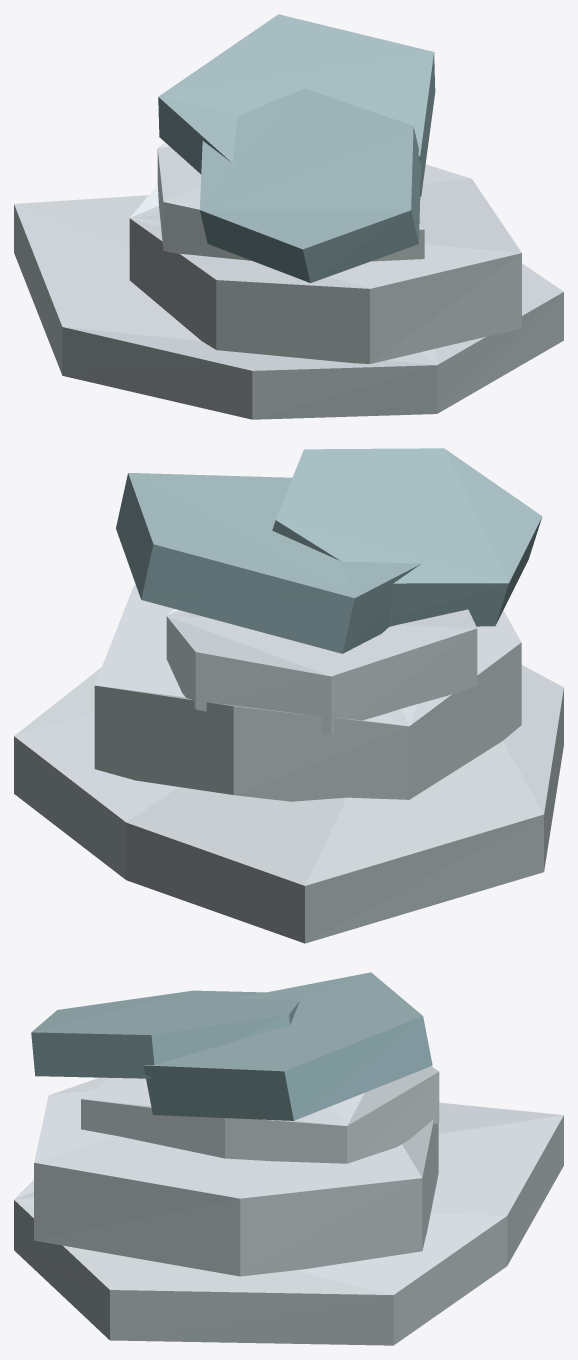
The model's file is rock.floe__buried__autumn.glb.
3 renders of one model, top to bottom at view 1: azimuth 30°, elevation 25°; view 2: azimuth 150°, elevation 25°; view 3: azimuth 270°, elevation 25°, orthographic. The views are drawn at different scales.
Parts seen in each view (by area): view 1: rock.floe; view 2: rock.floe; view 3: rock.floe.
Part boxes in pixels (bbox=[...]): rock.floe: bbox=[14, 14, 563, 419]; rock.floe: bbox=[14, 448, 563, 943]; rock.floe: bbox=[14, 972, 563, 1345].
Bounding box in the file's own units: 1.77 × 1.05 × 2.
